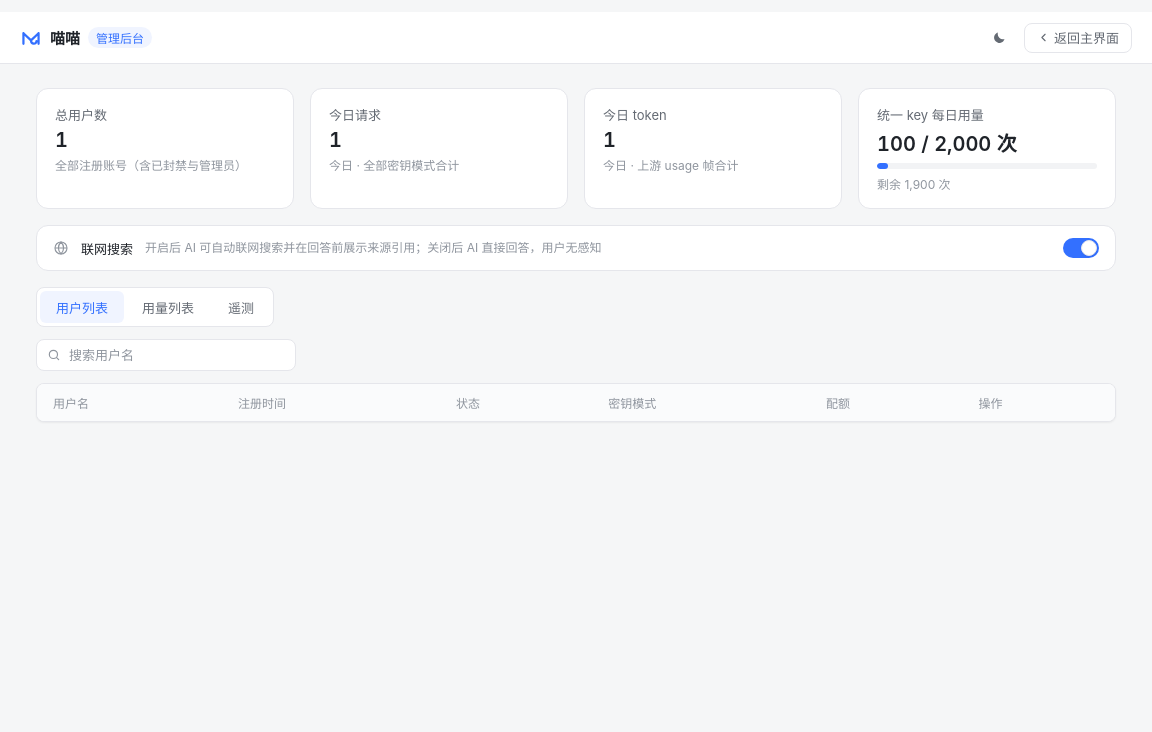
Test case: 缺失态与空态（铁律 5：永不显 0/NaN，走查条 39/40） › 缺失态：有压缩行零测得行 → 降幅位「缺失」徽标 C14；次数如实；sub 显「已测得 0 / 成功 N」
Click the radio button labelled "遥测".
click(241, 307)  # box [212,291,270,323]
(page scrolled)
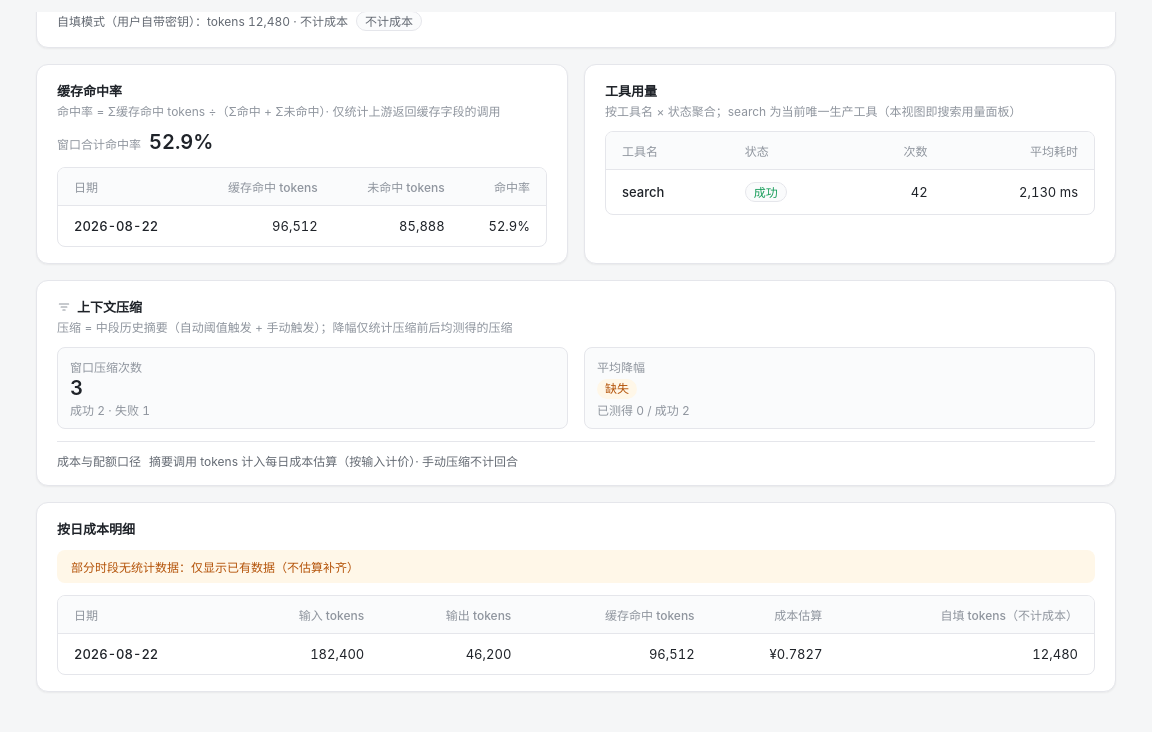
Expected: the text with class "tc-big" reads "3", [70,376,83,400]
Expected: the text with class "miss" reads "缺失", [605,381,629,396]
Expected: the text with class "tc-big-sub" reads "已测得 0 / 成功 2", [597,403,690,418]
